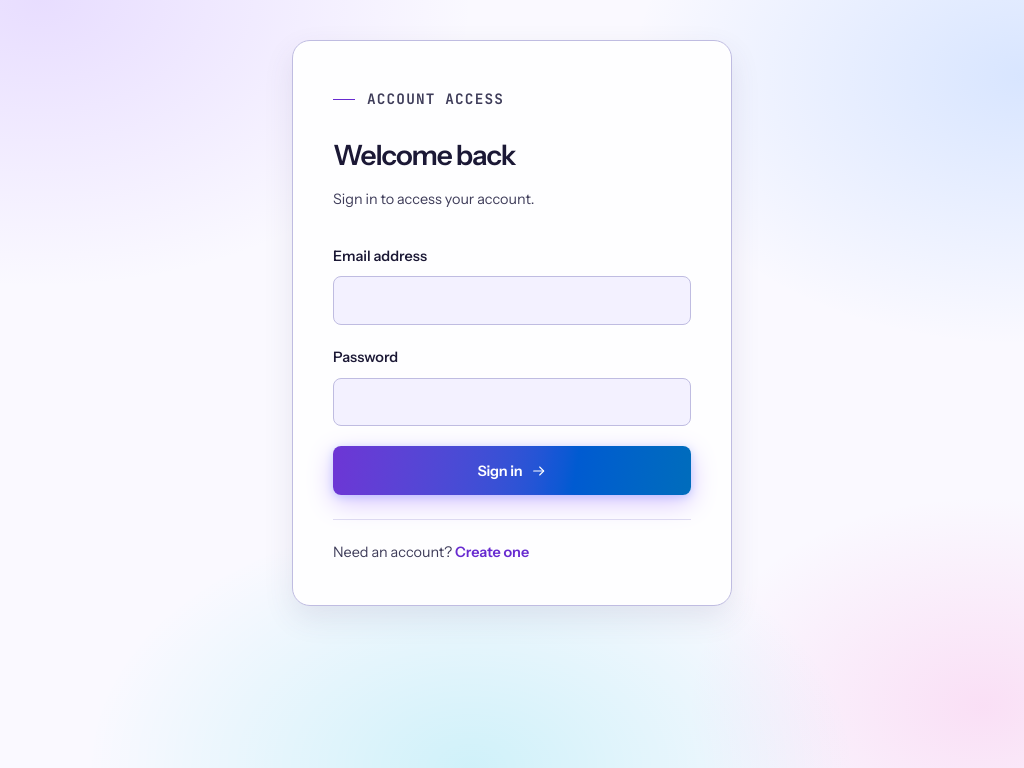
Test: AuthPage sign-in / sign-up behaviour › surfaces an authentication failure and stays on the form
This screenshot has width=1024, height=768.
Type "ada@example.com" into the field labelled "Email address" at [512, 301], box x1=333 y1=276 x2=691 y2=325
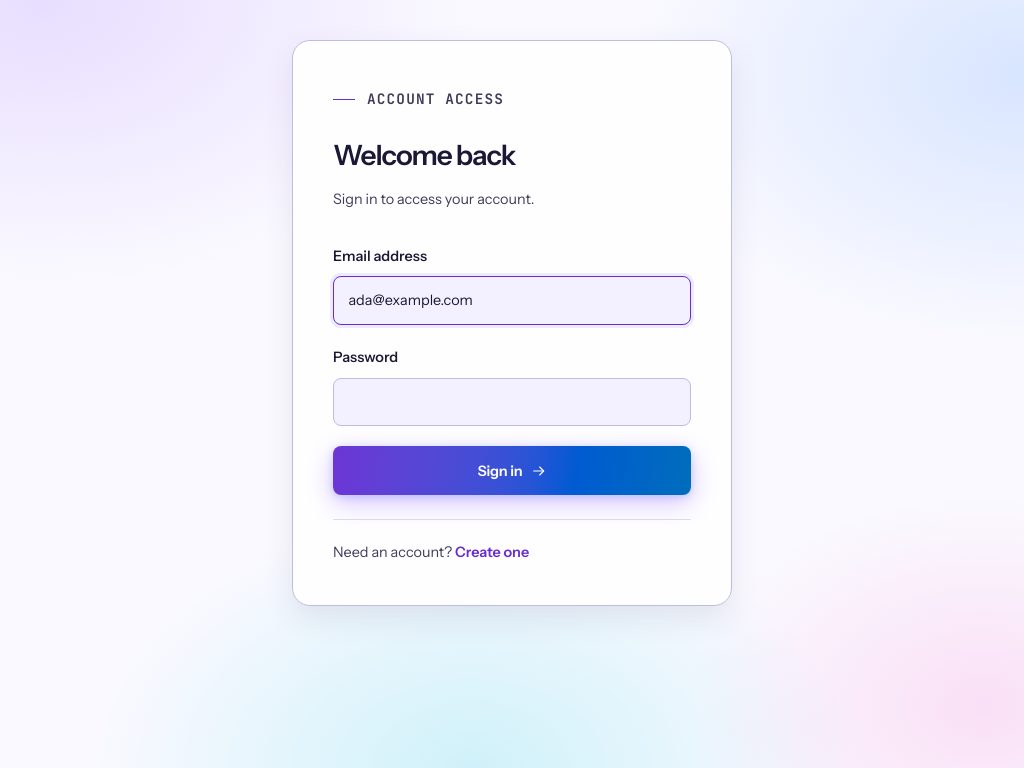
Type "correct-horse" into the password field labelled "Password" at [512, 402], box x1=333 y1=378 x2=691 y2=426
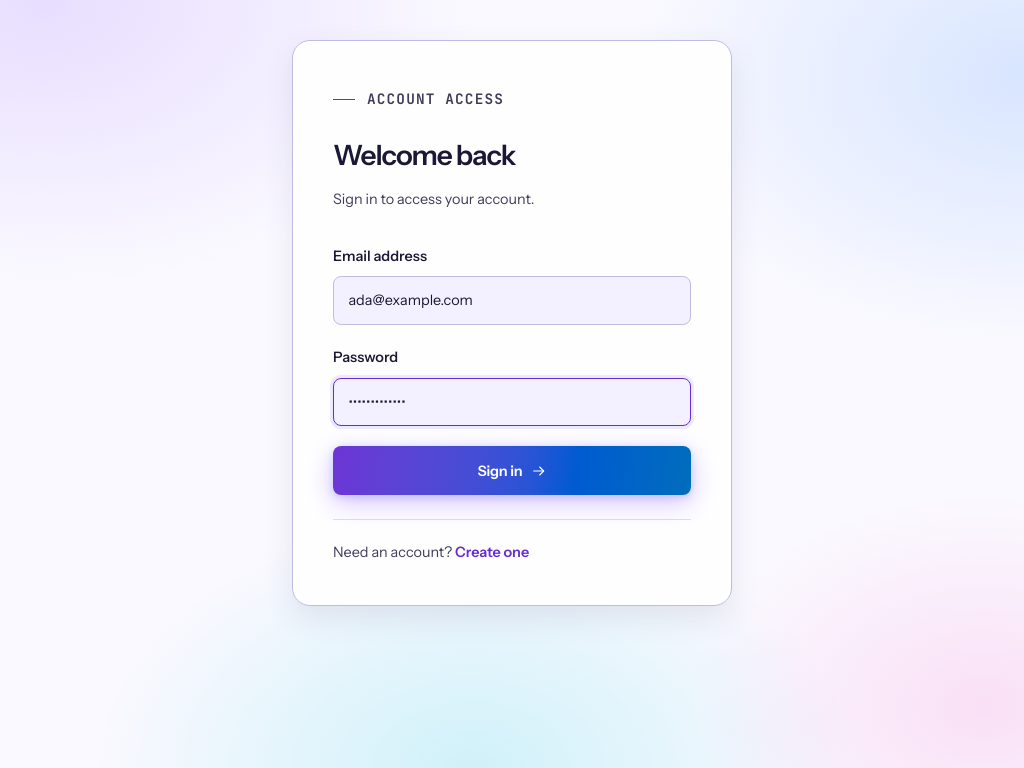
Click the button "Sign in" at [512, 471], box x1=333 y1=446 x2=691 y2=495
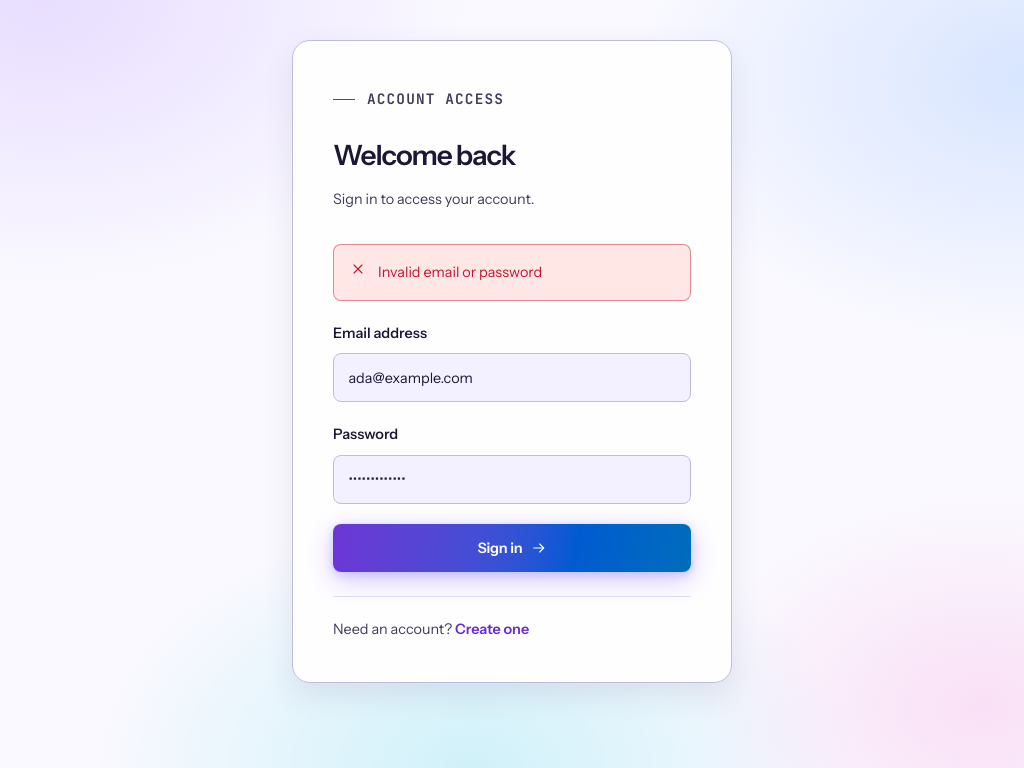
expect the button "Sign in" is enabled: met, box x1=333 y1=524 x2=691 y2=572
expect the message reads "Invalid email or password": met, box x1=378 y1=263 x2=542 y2=281
